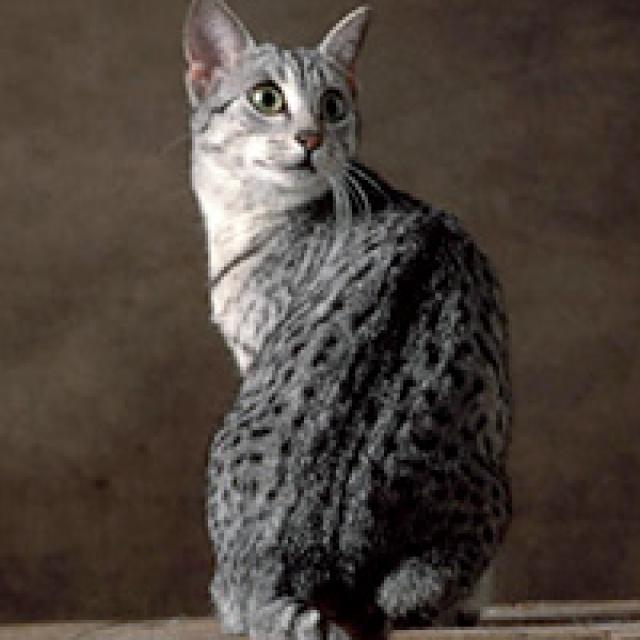Egyptian_Mau: (181, 2, 378, 221)
